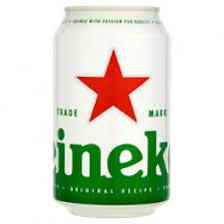beer: (51, 6, 172, 218)
